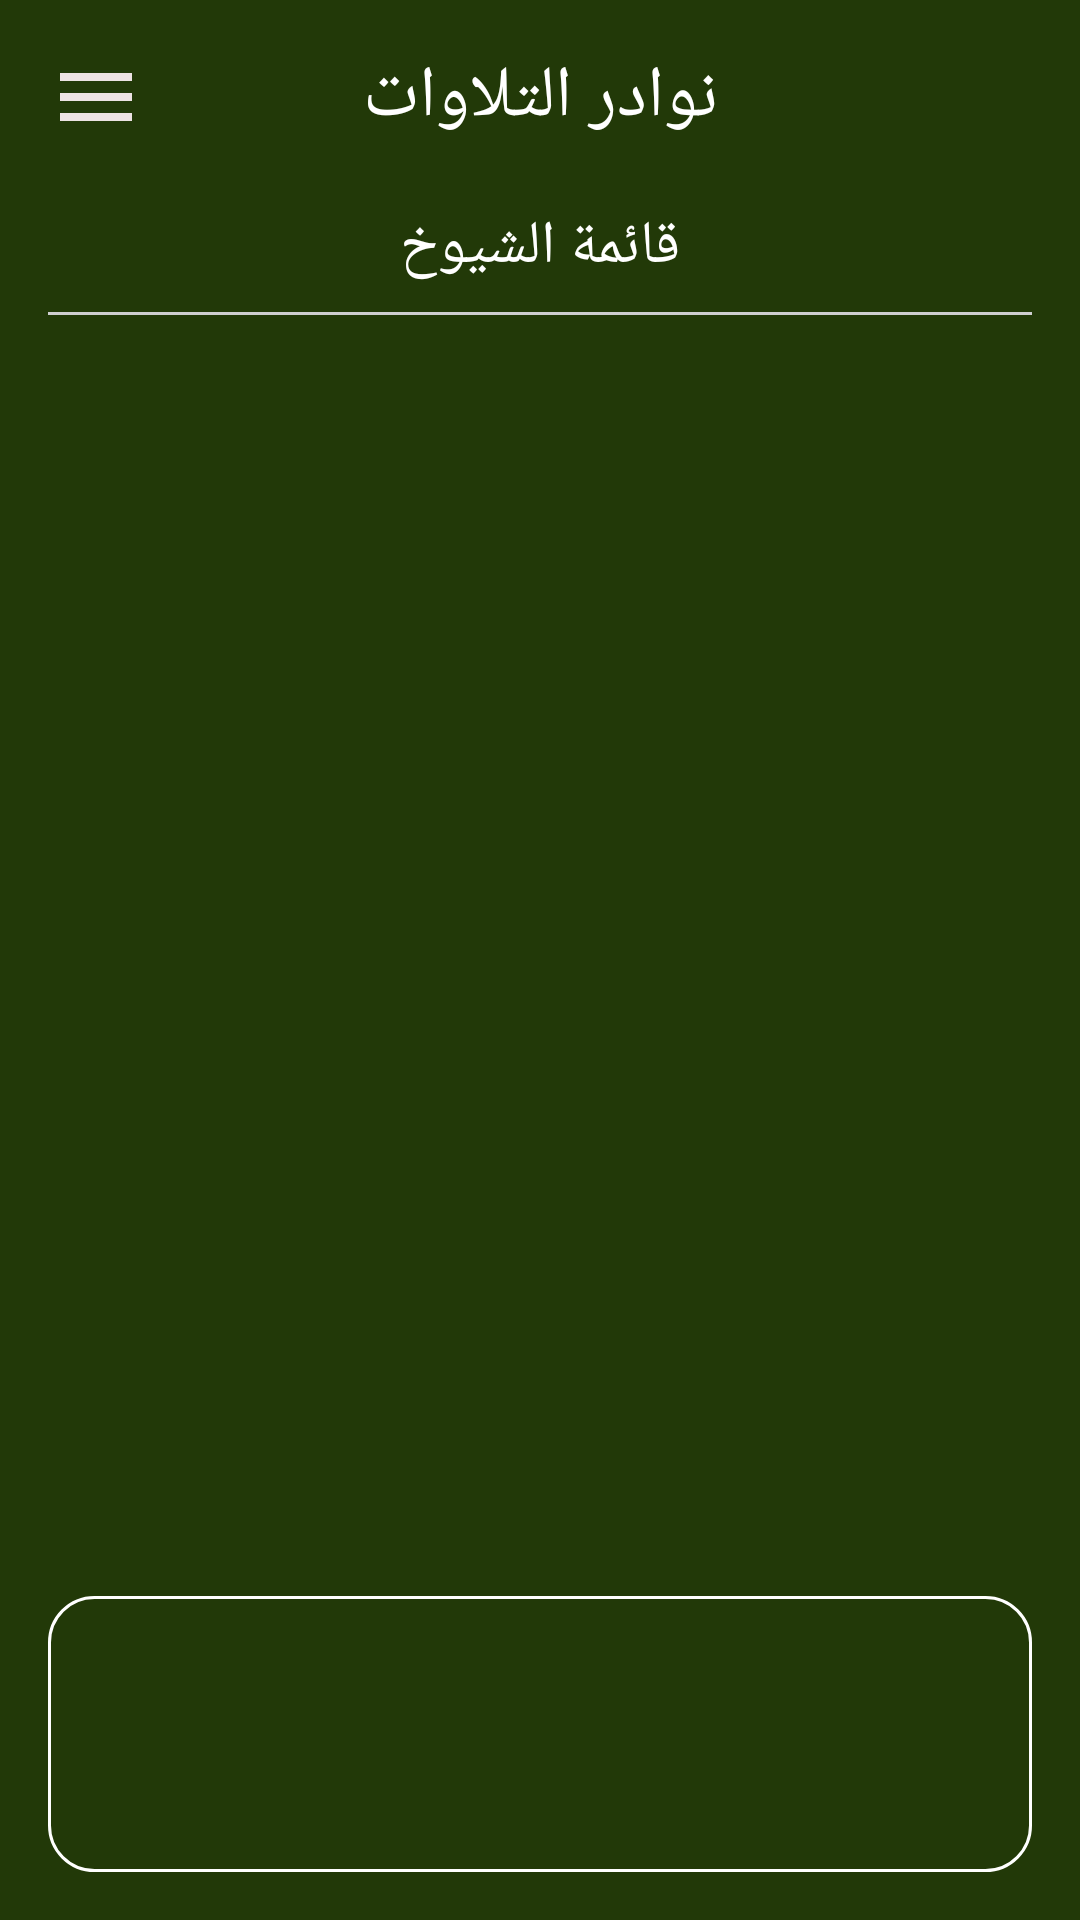

Icons on this 1080 × 1920 Android screen, each with the point to tap as (x=x, y=y):
menu: (x=96, y=97)
